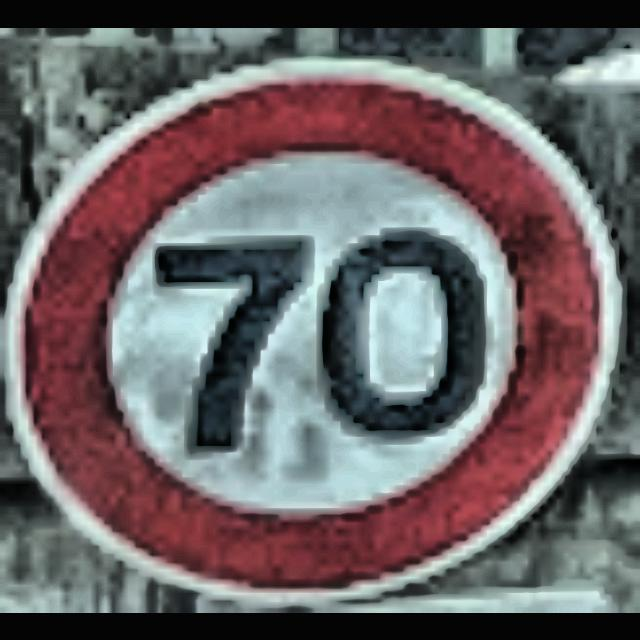speed_70: (0, 28, 640, 612)
